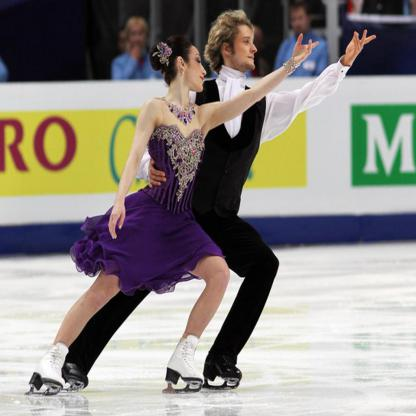face: (231, 23, 257, 72), (186, 46, 207, 93), (291, 9, 310, 34), (130, 24, 146, 48)
